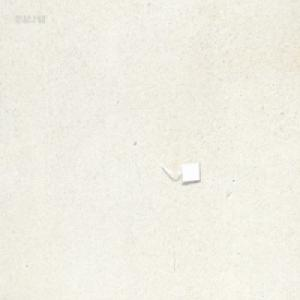LuggageTag: (160, 159, 200, 185)
